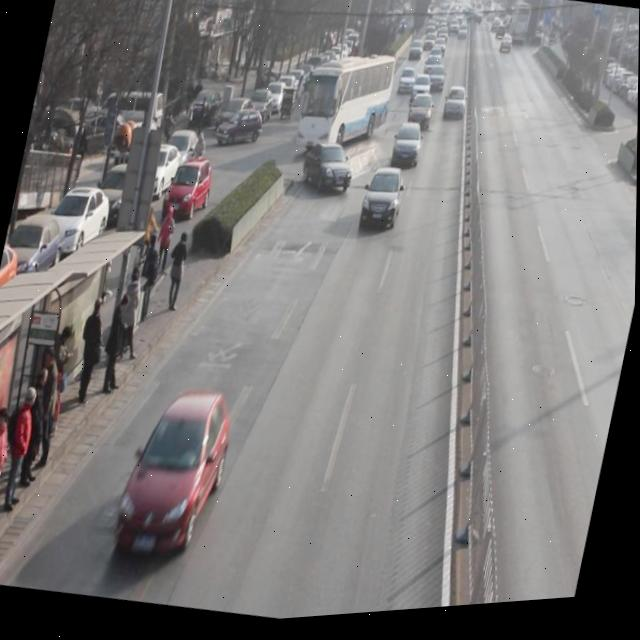car: (110, 384, 239, 576), (298, 142, 359, 205), (358, 171, 407, 241), (389, 126, 426, 180), (406, 98, 436, 140), (441, 91, 471, 132)
van: (294, 48, 399, 170)
